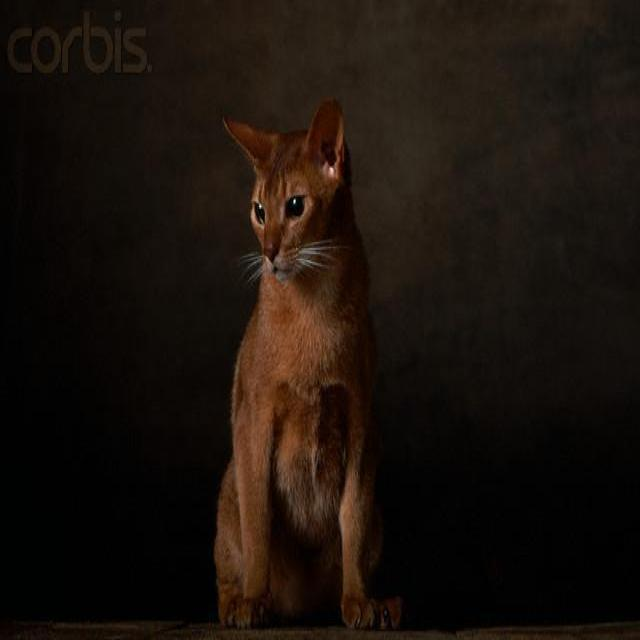cat: (213, 96, 402, 626)
